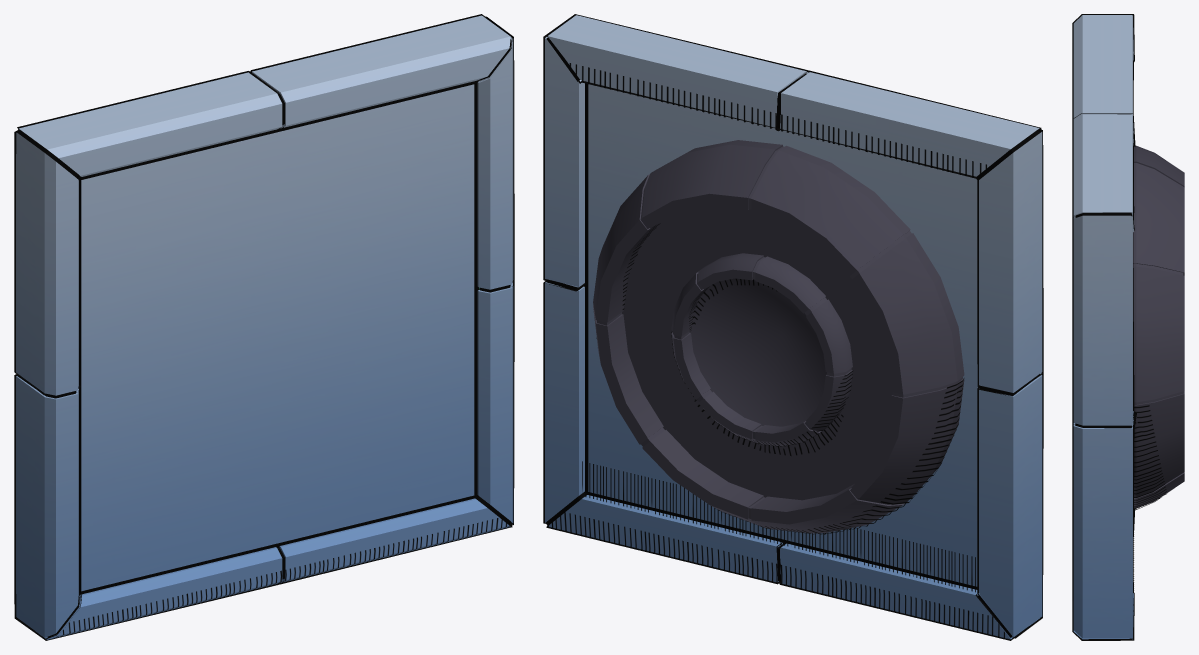
Rendered from SciFi_PictureFrame.glb.
The picture shows the model from 3 angles, left to right: view 1: azimuth 30°, elevation 25°; view 2: azimuth 150°, elevation 25°; view 3: azimuth 270°, elevation 25°; orthographic projection. The views are drawn at different scales.
Parts seen in each view (by area): view 1: SciFi_PictureFrame; view 2: SciFi_PictureFrame; view 3: SciFi_PictureFrame.
Part boxes in pixels (x1=…): SciFi_PictureFrame: x1=14, y1=14, x2=514, y2=640; SciFi_PictureFrame: x1=543, y1=14, x2=1043, y2=640; SciFi_PictureFrame: x1=1072, y1=14, x2=1184, y2=640.
Size of the model in its own units: 2.36 by 2.35 by 0.557.
Materials: 3 (2 with a texture image).
